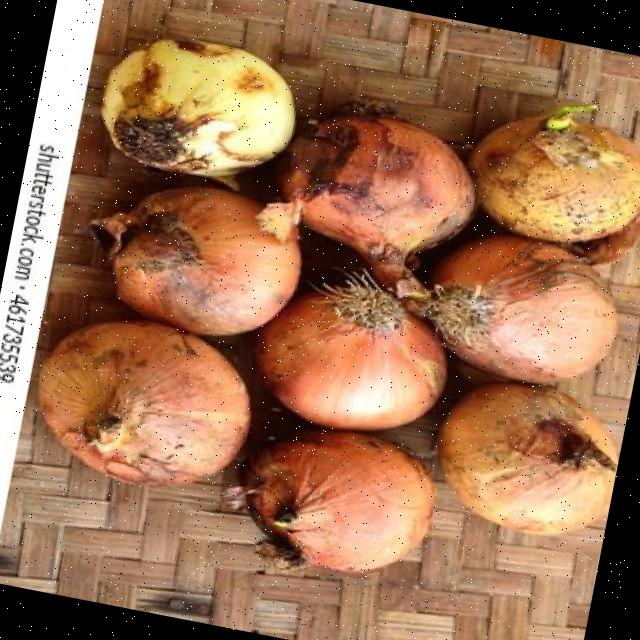Onion: (276, 115, 474, 298), (36, 323, 248, 487), (401, 236, 617, 383), (90, 187, 299, 336), (255, 270, 445, 430), (223, 431, 433, 575), (438, 384, 615, 537), (99, 38, 294, 176), (468, 115, 640, 264)
